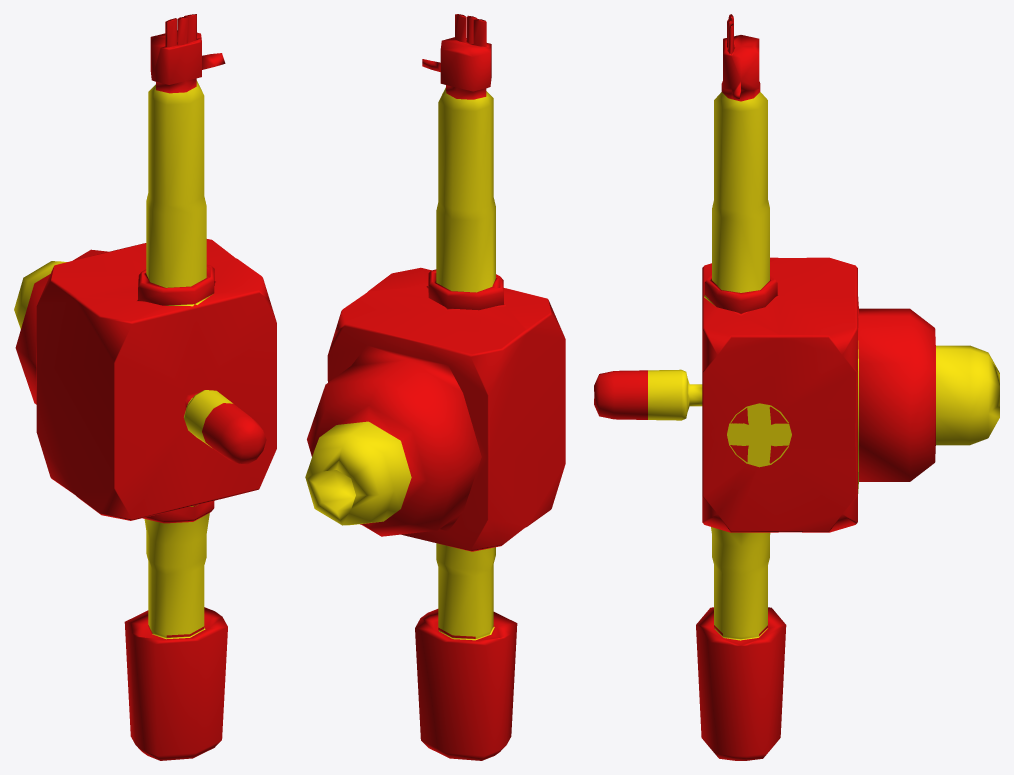
Rendered from Osmosis.fbx.
3 views of the same model, side by side, from view 1: azimuth 30°, elevation 25°; view 2: azimuth 150°, elevation 25°; view 3: azimuth 270°, elevation 25° (orthographic).
Parts seen in each view (by area): view 1: 3DSMesh_0, 3DSMesh_1; view 2: 3DSMesh_0, 3DSMesh_1; view 3: 3DSMesh_0, 3DSMesh_1.
Part boxes in pixels (<box>): 3DSMesh_0: <box>15,14,276,760</box>; 3DSMesh_1: <box>14,80,232,639</box>; 3DSMesh_0: <box>307,14,565,760</box>; 3DSMesh_1: <box>305,87,495,640</box>; 3DSMesh_0: <box>594,14,935,760</box>; 3DSMesh_1: <box>648,92,999,640</box>.
Size of the model in its own units: 1.26 by 5.4 by 2.74.
